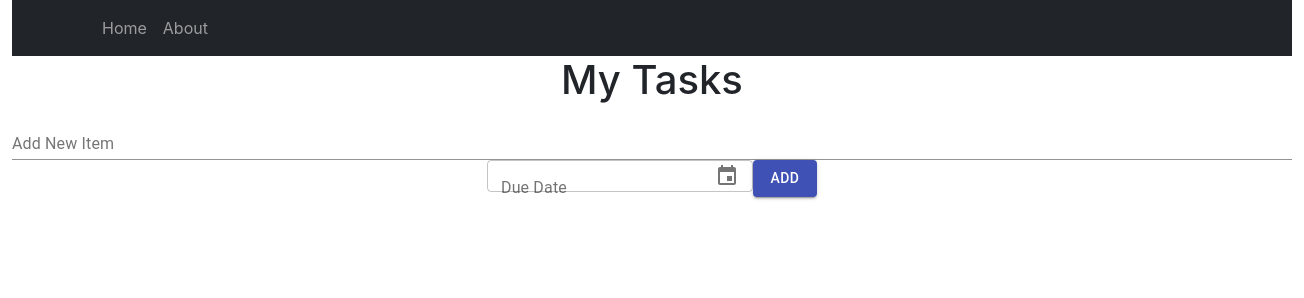
Test: test that App component renders different colors for past due events
In the field labelled "Add New Item": point(652, 144) [12,128,1292,160], type "Past Due Task"
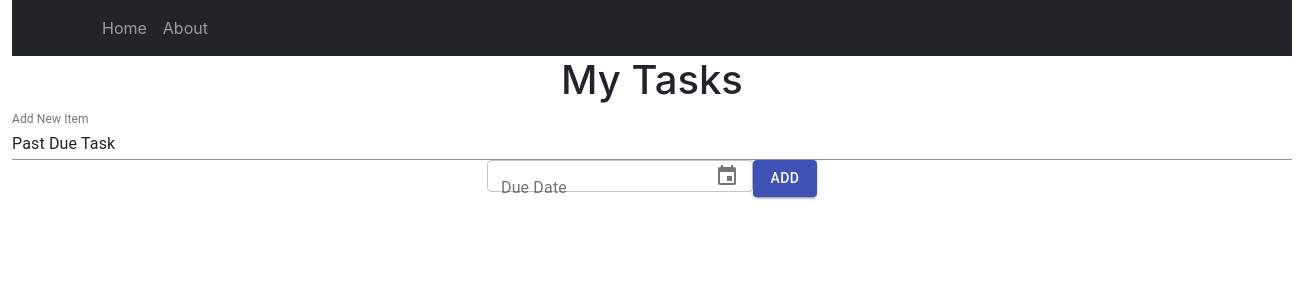
In the field with placeholder "MM/DD/YYYY": point(597, 176) [487,160,707,192], type "06/01/2023"
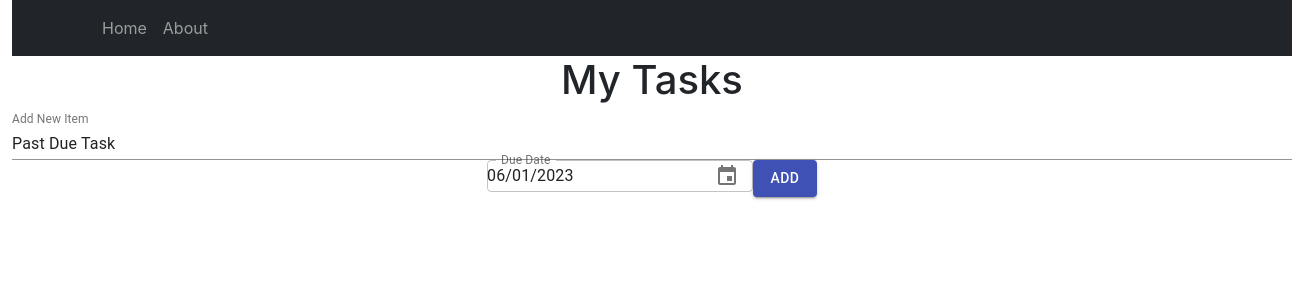
Click the button "Add": point(785, 178) [753,160,817,196]
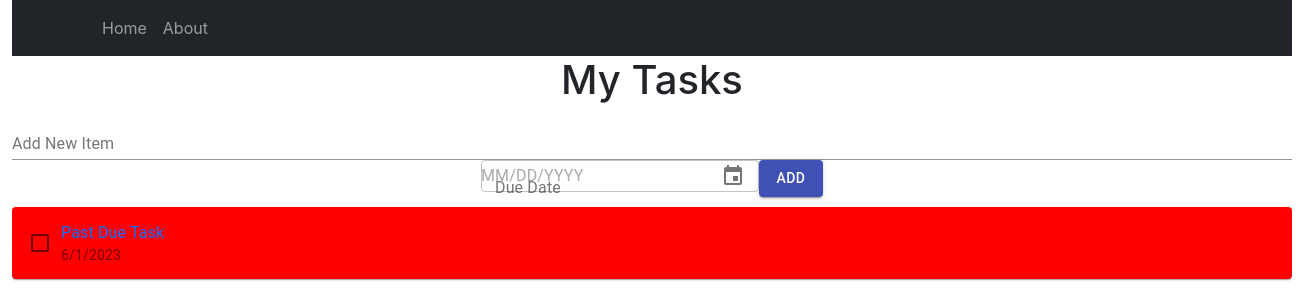
Expected: the text "Past Due Task" is shown, [61,222,164,242]
